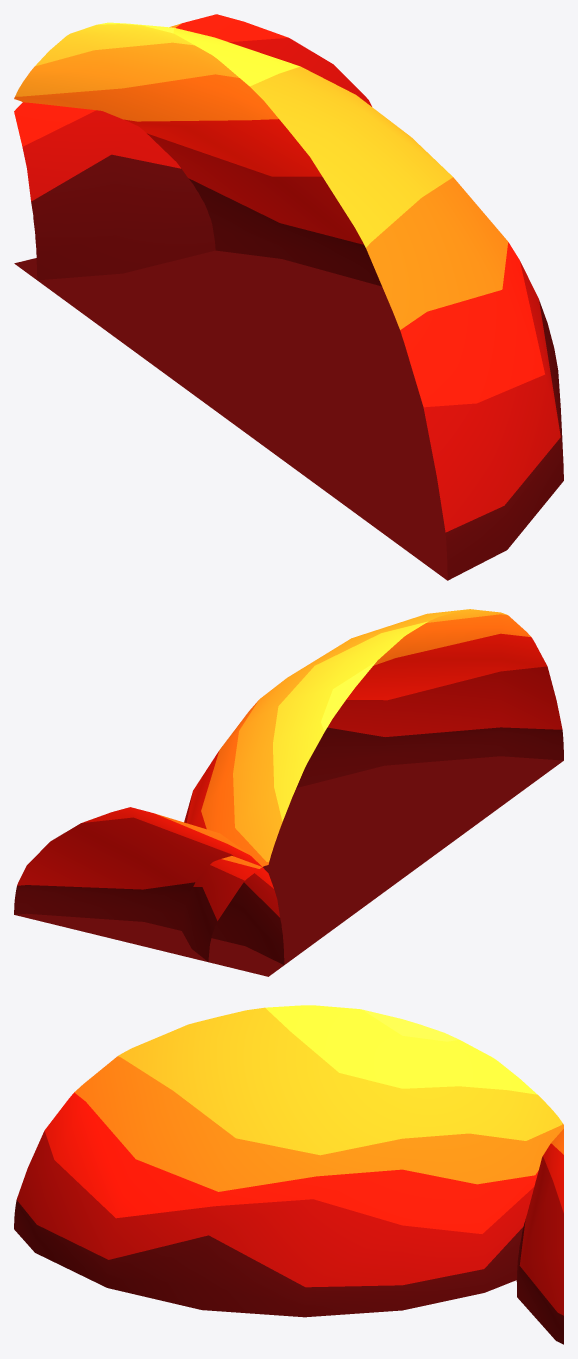
Rendered from shot_charge_b241.glb.
3 renders of one model, top to bottom at view 1: azimuth 30°, elevation 25°; view 2: azimuth 150°, elevation 25°; view 3: azimuth 270°, elevation 25°, orthographic. The views are drawn at different scales.
Parts seen in each view (by area): view 1: charge_twin1_b_fire_shot_charge_b241, charge_twin1_a_fire_shot_charge_b241; view 2: charge_twin1_b_fire_shot_charge_b241, charge_twin1_a_fire_shot_charge_b241; view 3: charge_twin1_b_fire_shot_charge_b241, charge_twin1_a_fire_shot_charge_b241.
Part boxes in pixels (x1,y1,x2,y2): charge_twin1_b_fire_shot_charge_b241: (14,22,563,580); charge_twin1_a_fire_shot_charge_b241: (14,14,371,280); charge_twin1_b_fire_shot_charge_b241: (182,609,563,976); charge_twin1_a_fire_shot_charge_b241: (14,807,284,976); charge_twin1_b_fire_shot_charge_b241: (14,1005,563,1317); charge_twin1_a_fire_shot_charge_b241: (516,1129,563,1344).
Bounding box in the file's own units: 5.25 × 4.75 × 10.56.
